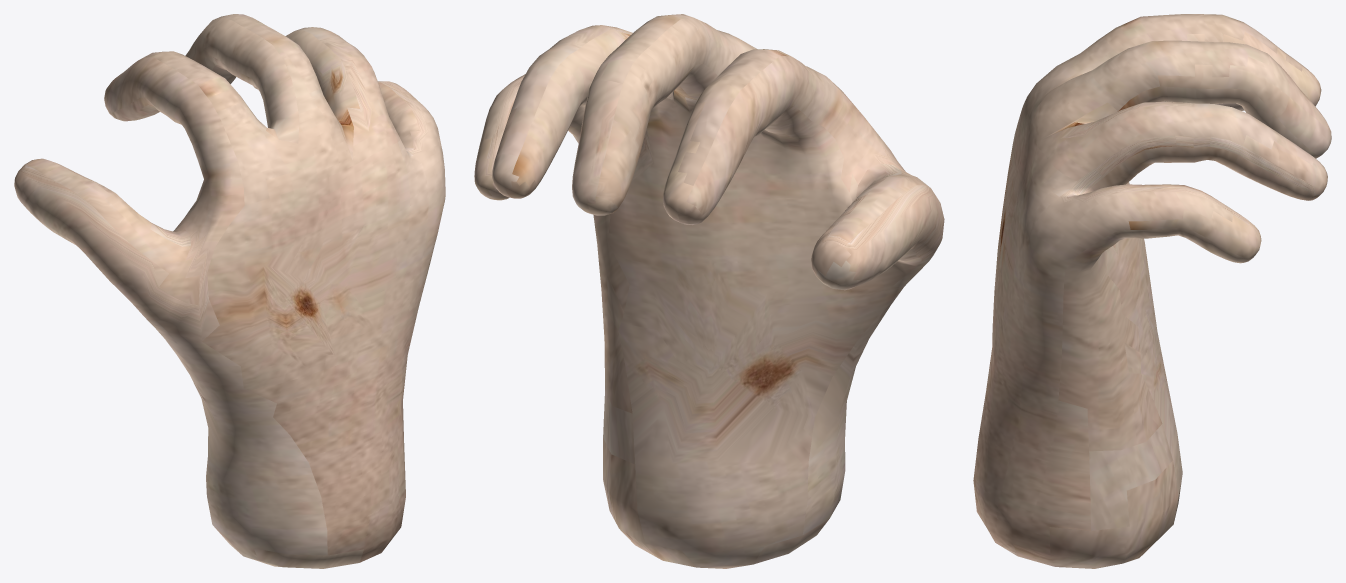
File: hand11.obj
The picture shows the model from 3 angles, left to right: view 1: azimuth 30°, elevation 25°; view 2: azimuth 150°, elevation 25°; view 3: azimuth 270°, elevation 25°; orthographic projection. The views are drawn at different scales.
Parts seen in each view (by area): view 1: Cube.001; view 2: Cube.001; view 3: Cube.001.
Boxes of the visible parts, bbox=[...] form: Cube.001: bbox=[14, 14, 445, 568]; Cube.001: bbox=[474, 14, 944, 568]; Cube.001: bbox=[973, 14, 1331, 568].
Bounding box in the file's own units: 3.65 × 4.73 × 3.02.
